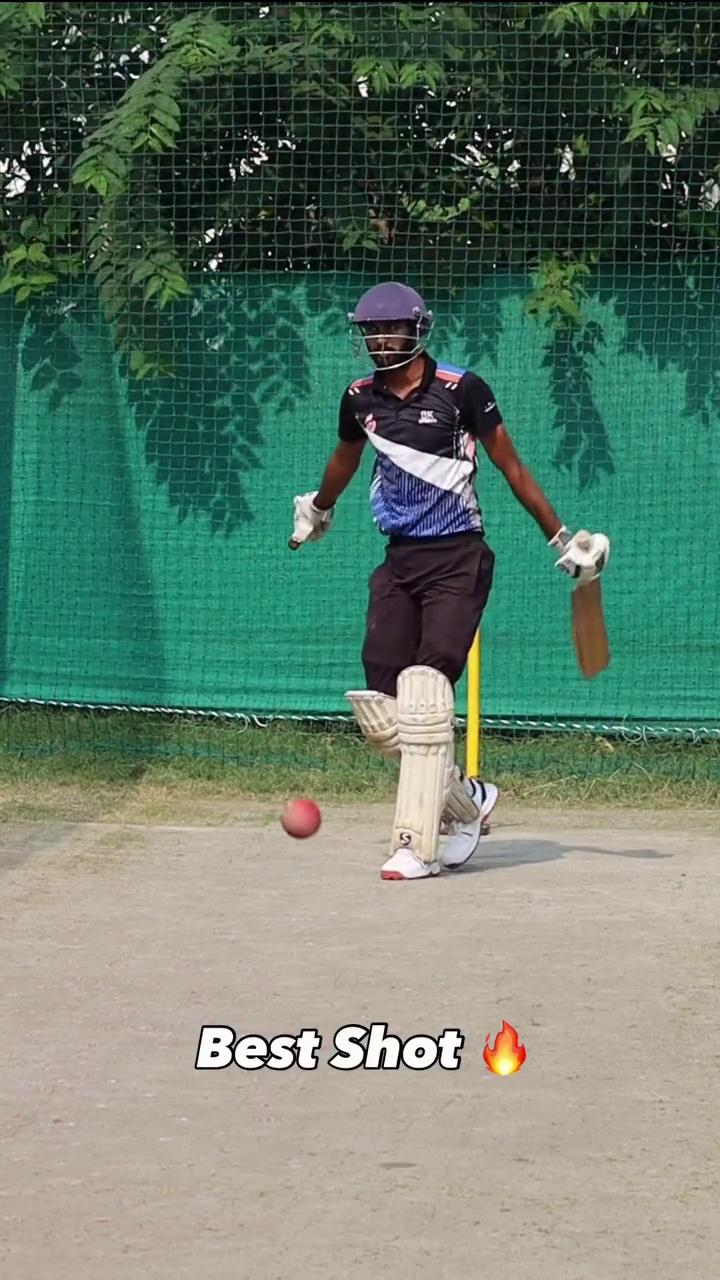bat: (565, 574, 619, 688)
